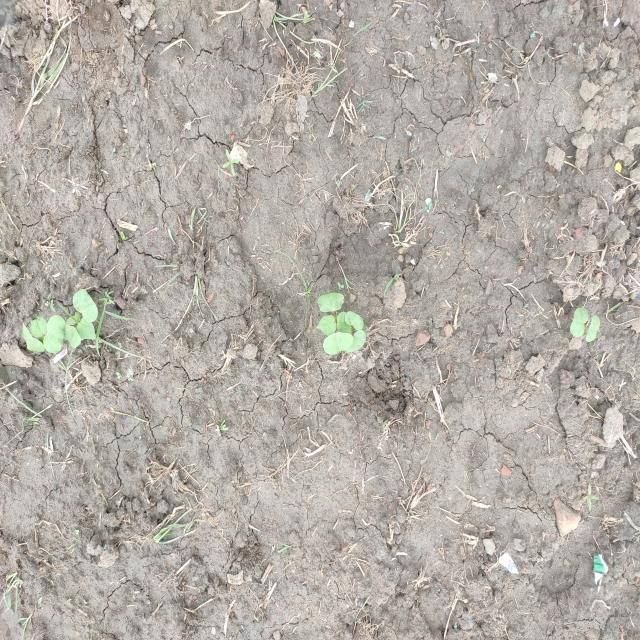seedling_s4: (43, 315, 66, 354), (73, 289, 98, 322), (22, 322, 45, 353), (323, 332, 353, 355), (570, 307, 588, 337), (317, 293, 344, 312), (346, 330, 366, 353), (76, 317, 96, 339), (317, 315, 337, 336), (64, 324, 81, 348), (344, 311, 364, 330), (586, 315, 600, 342), (30, 316, 47, 337), (336, 312, 352, 334)
